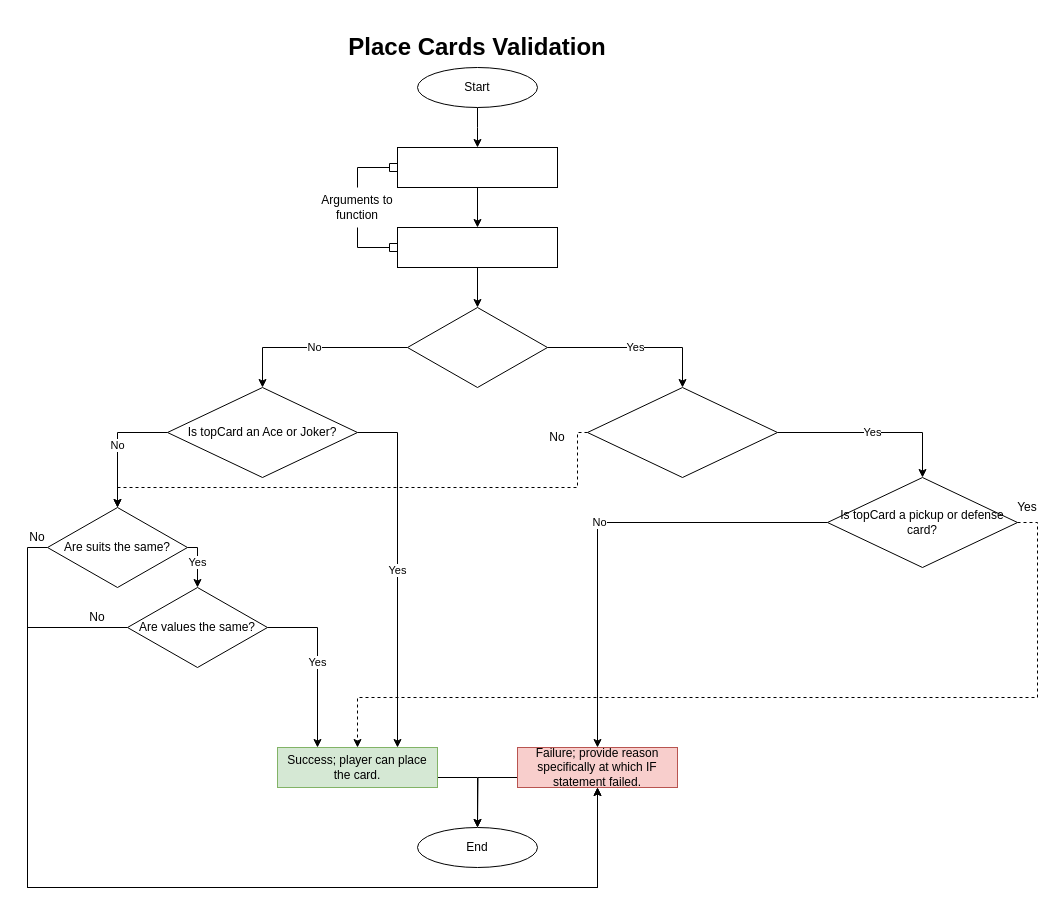
Some shapes in this 1064 by 913 pixel diagram are drawn without their labels. The shapes that lost their labels are listed below. From the top down, each one's centre as x and y in pixels, then its label:
At (477,167): "topCard = the card the player is attempting to place".
At (477,247): "bottomCard = the card already on the table, from previous turn".
At (477,347): "Is bottomCard active?".
At (682,432): "Is bottomCard a pickup card?".
